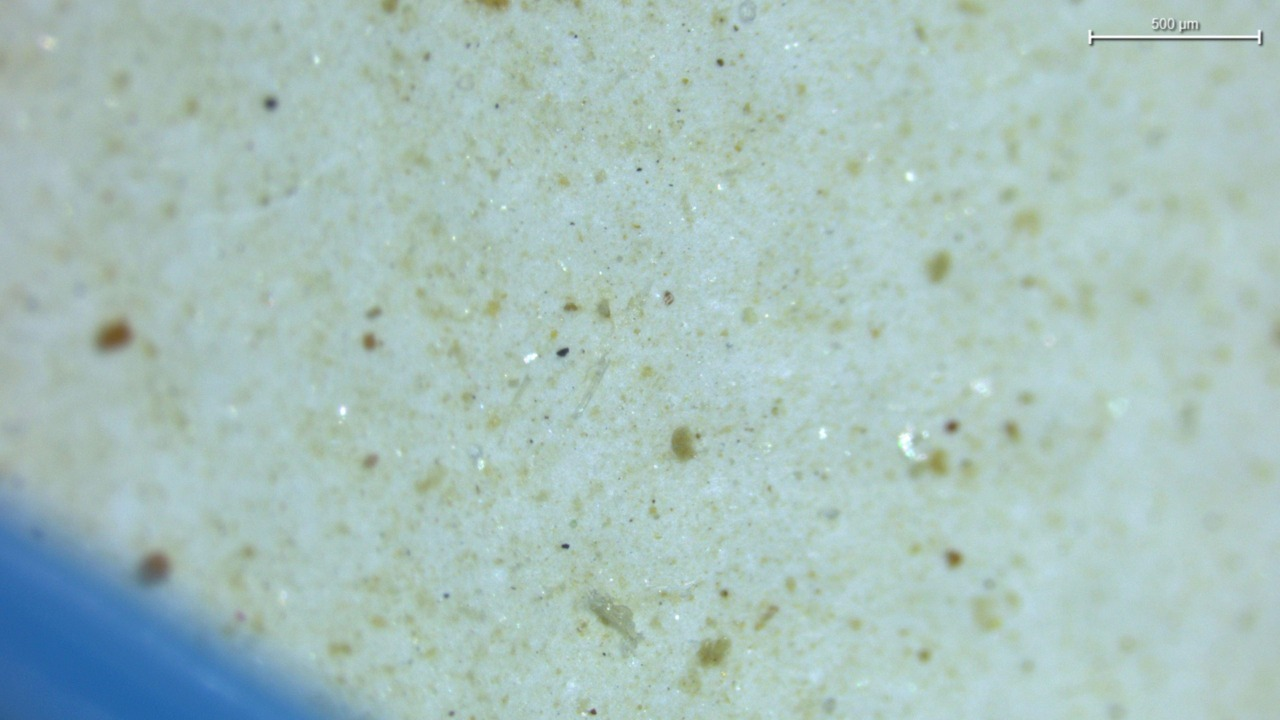microplastic_fragment: (586, 591, 637, 641)
